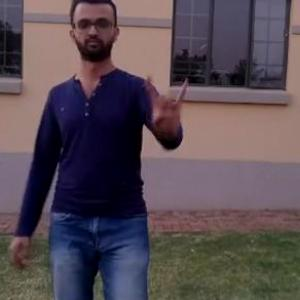takeoff-hand: (143, 70, 196, 134)
